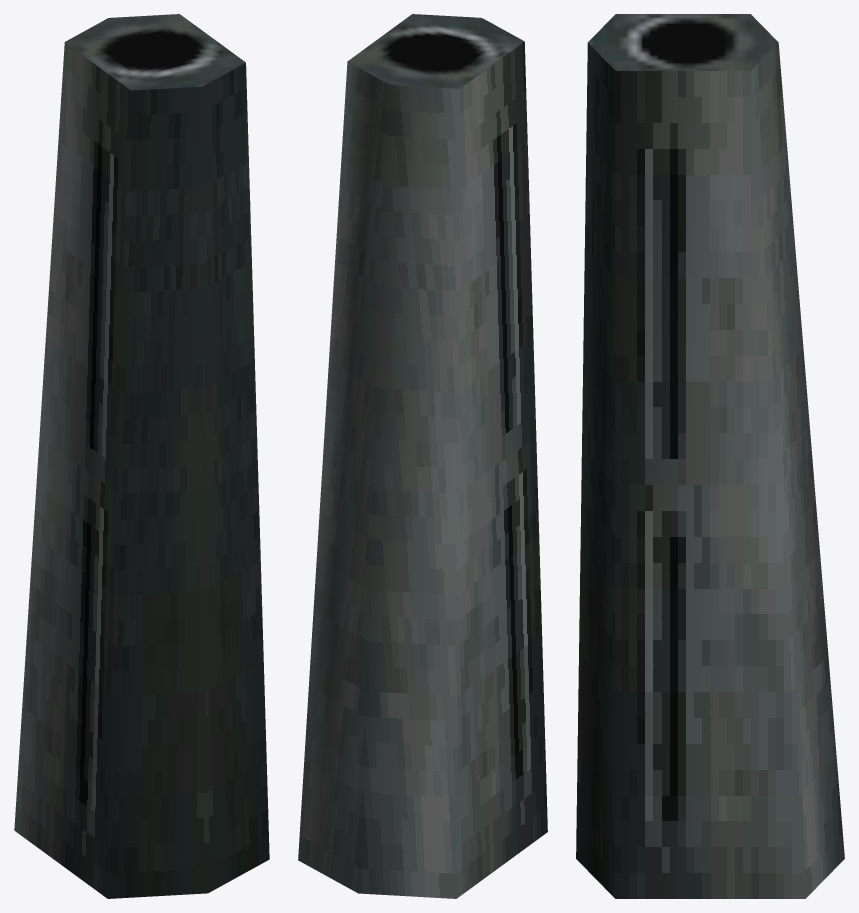
Rendered from wp_muzzle_proj_l0.fbx.
3 views of the same model, side by side, from view 1: azimuth 30°, elevation 25°; view 2: azimuth 150°, elevation 25°; view 3: azimuth 270°, elevation 25° (orthographic). The views are drawn at different scales.
Visible parts, largest first — view 1: mesh_node; view 2: mesh_node; view 3: mesh_node.
Boxes of the visible parts, <box> form: mesh_node: <box>14,14,269,898</box>; mesh_node: <box>298,14,547,898</box>; mesh_node: <box>576,14,844,898</box>.
Size of the model in its own units: 0.0171 by 0.0811 by 0.0242.
2 materials, 2 textured.
